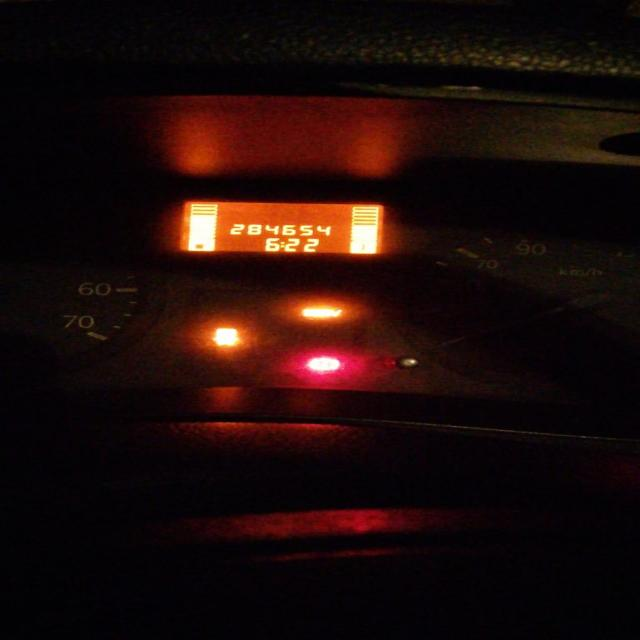odometer: (175, 200, 387, 256)
